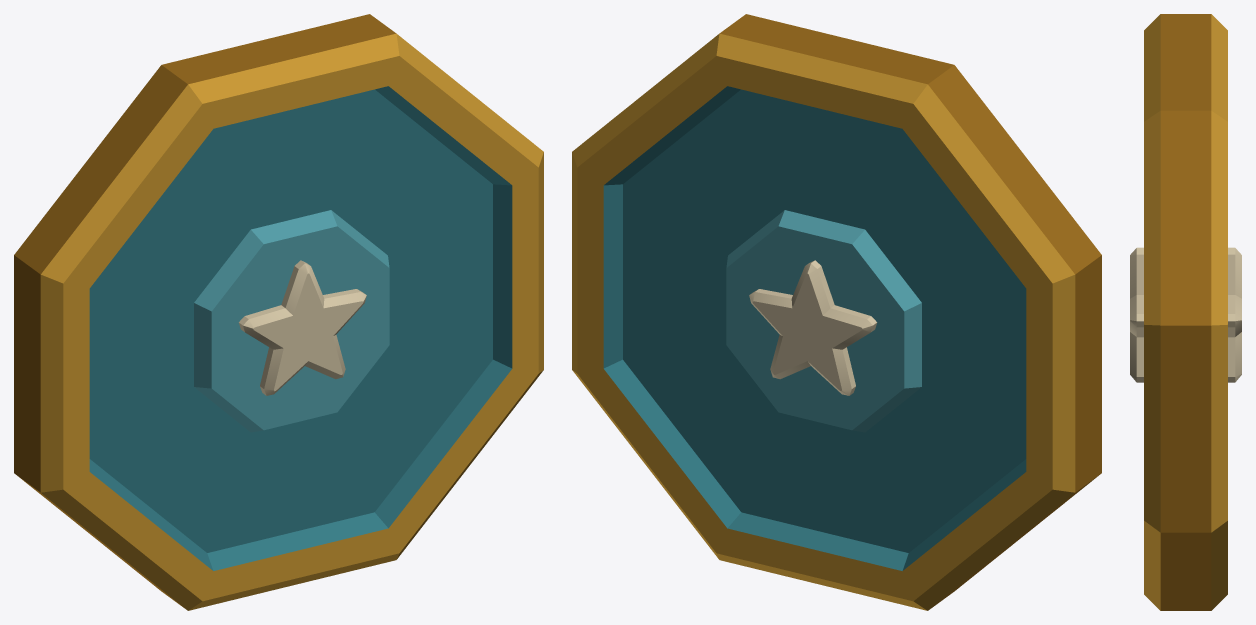
Rendered from Coin_29.glb.
3 renders of one model, left to right at view 1: azimuth 30°, elevation 25°; view 2: azimuth 150°, elevation 25°; view 3: azimuth 270°, elevation 25°, orthographic. The views are drawn at different scales.
Parts seen in each view (by area): view 1: Coin_29; view 2: Coin_29; view 3: Coin_29.
Boxes of the visible parts, box(x1,y1,x2,y2) form: Coin_29: box(14, 14, 543, 610); Coin_29: box(572, 14, 1101, 610); Coin_29: box(1130, 14, 1241, 610).
Bounding box in the file's own units: 1.5 × 1.5 × 0.304.
